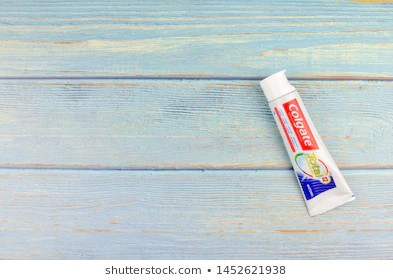colgate-total-150gm: (254, 66, 361, 218)
